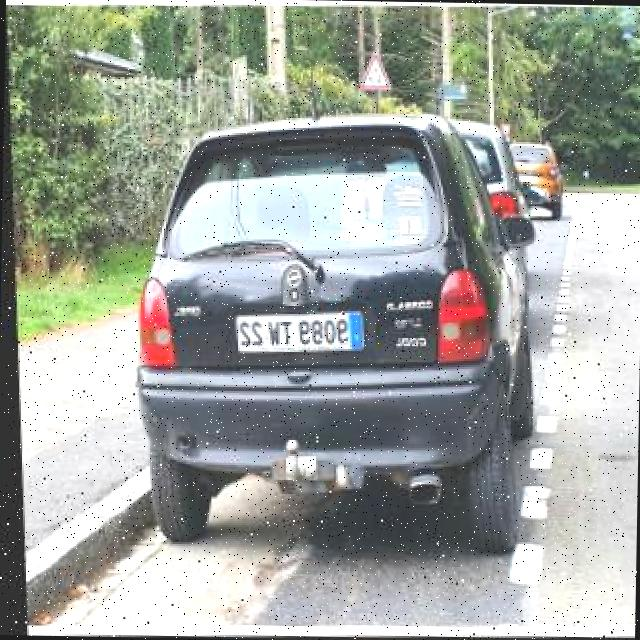EU: (233, 315, 371, 356)
France: (350, 315, 362, 348)
